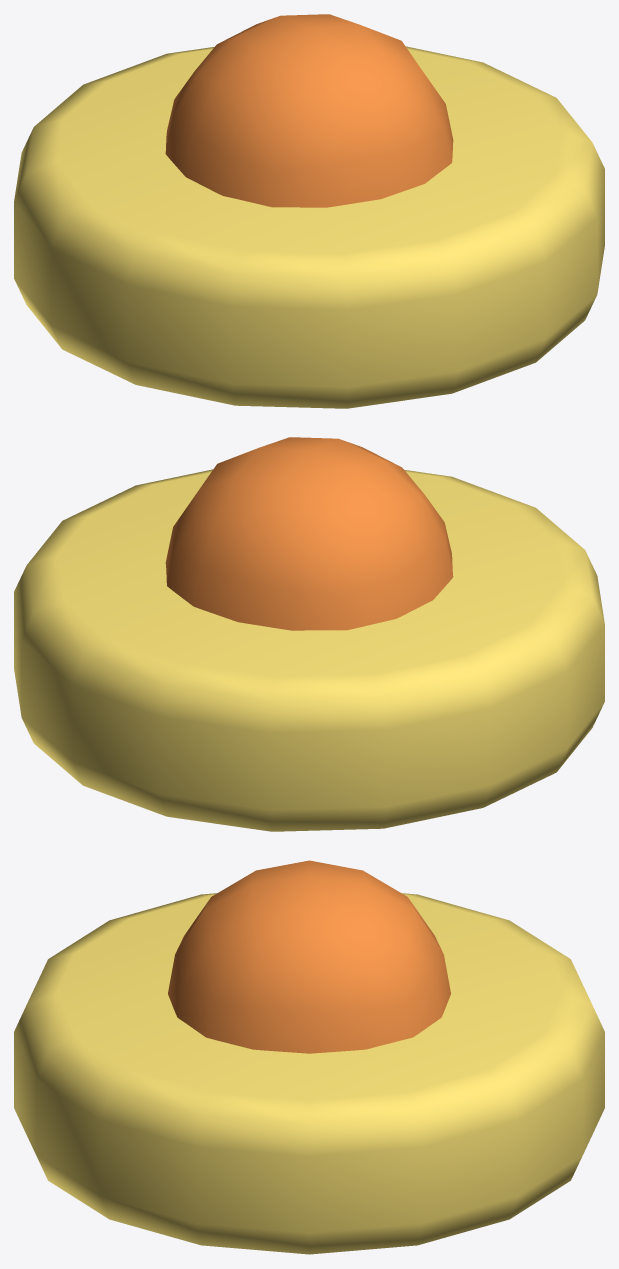
Rendered from Cake_3.glb.
3 views of the same model, one above another, from view 1: azimuth 30°, elevation 25°; view 2: azimuth 150°, elevation 25°; view 3: azimuth 270°, elevation 25° (orthographic).
Visible parts, largest first — view 1: Cake_3; view 2: Cake_3; view 3: Cake_3.
Part boxes in pixels (x1,y1,x2,y2): Cake_3: (14, 14, 604, 408); Cake_3: (14, 437, 604, 831); Cake_3: (14, 860, 604, 1254).
Size of the model in its own units: 0.1633 by 0.0823 by 0.1633.
1 material, 1 textured.
